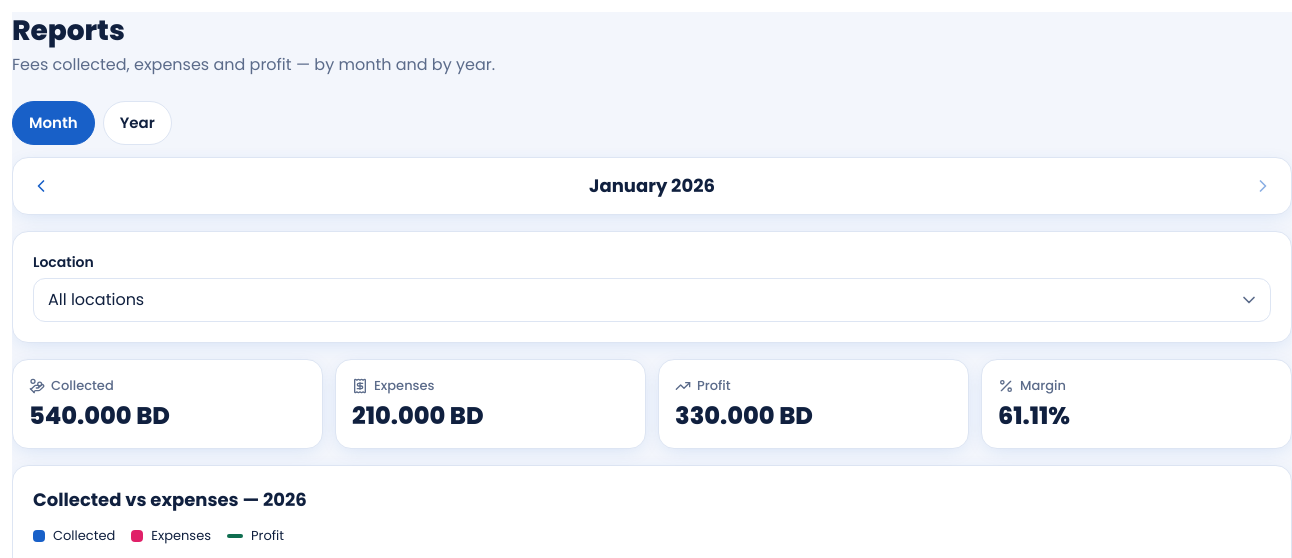
Test case: ReportsPage › crosses the year boundary going back from January
Expected: the text "January 2026" is shown, x1=589 y1=173 x2=715 y2=198
Click the button named "Previous month" at (41, 186), box x1=19 y1=164 x2=63 y2=208
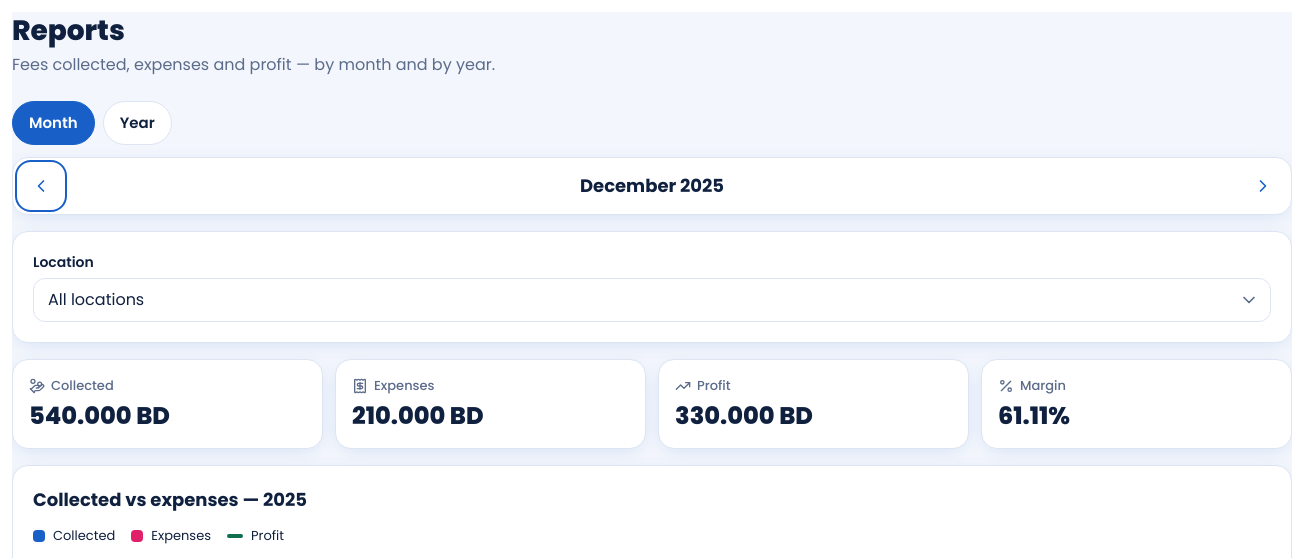
Now the text "December 2025" is shown, box x1=580 y1=173 x2=724 y2=198
